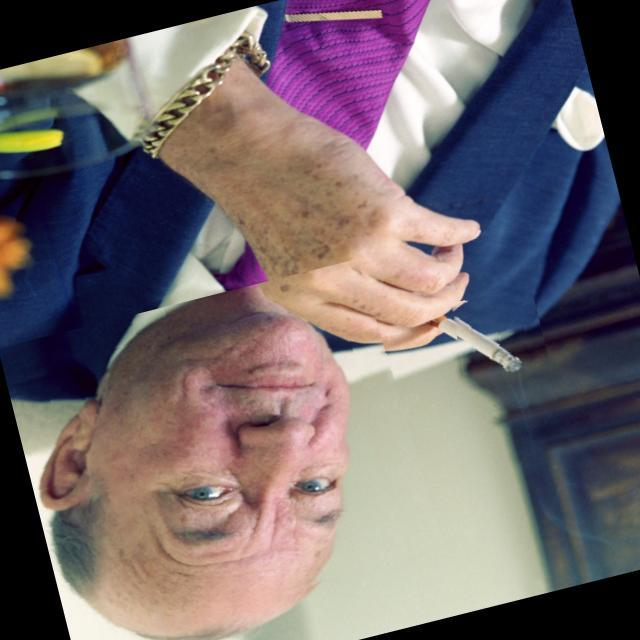cigarette: (443, 284, 551, 392)
